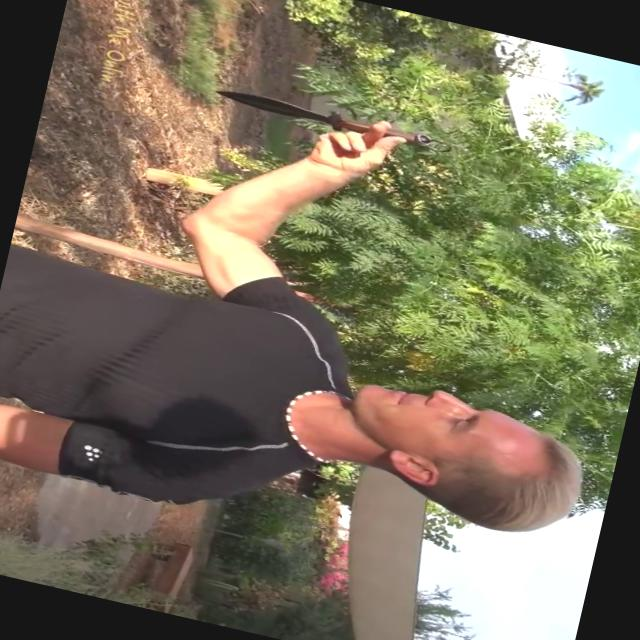knife: (190, 72, 472, 169)
